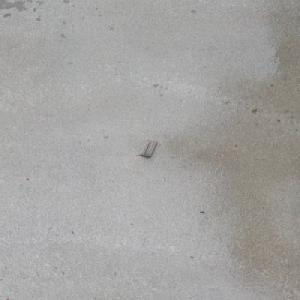MetalPart: (135, 140, 158, 158)
